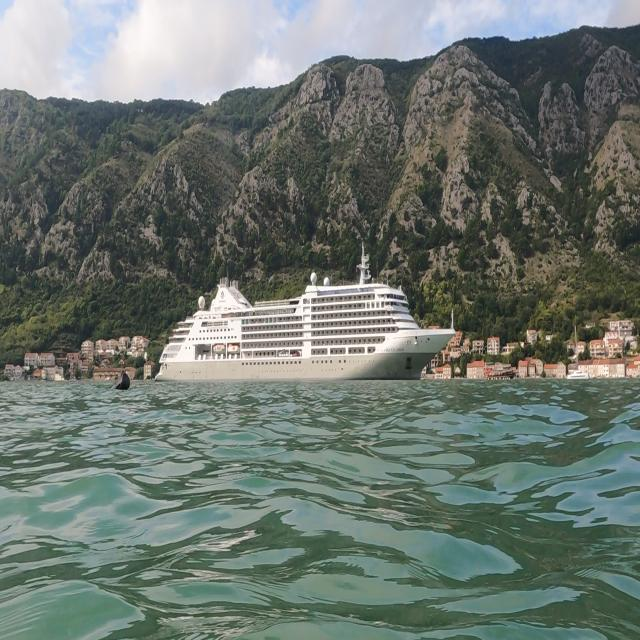boat: (153, 238, 457, 384)
buoy: (105, 367, 133, 399)
